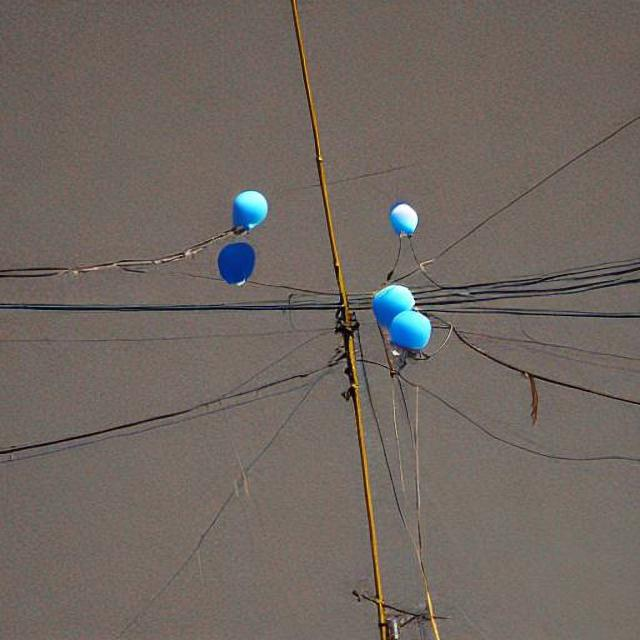balloon: (370, 283, 436, 353), (215, 233, 256, 286), (226, 190, 270, 233), (388, 199, 418, 236)
